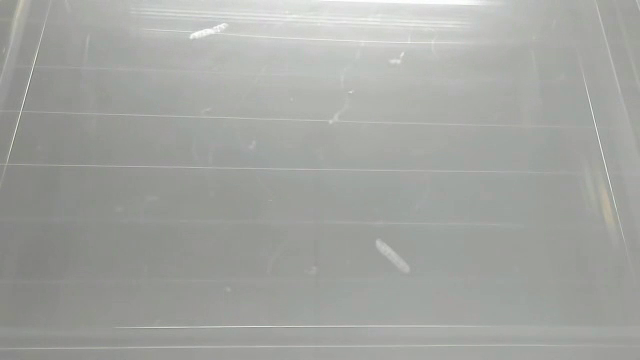alpha: (371, 233, 414, 280), (186, 19, 233, 44)
